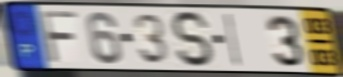3: (265, 13, 305, 69), (132, 12, 170, 65)
6: (84, 10, 123, 66)
F: (38, 9, 80, 66)
I: (224, 11, 243, 69)
S: (169, 9, 218, 69)
